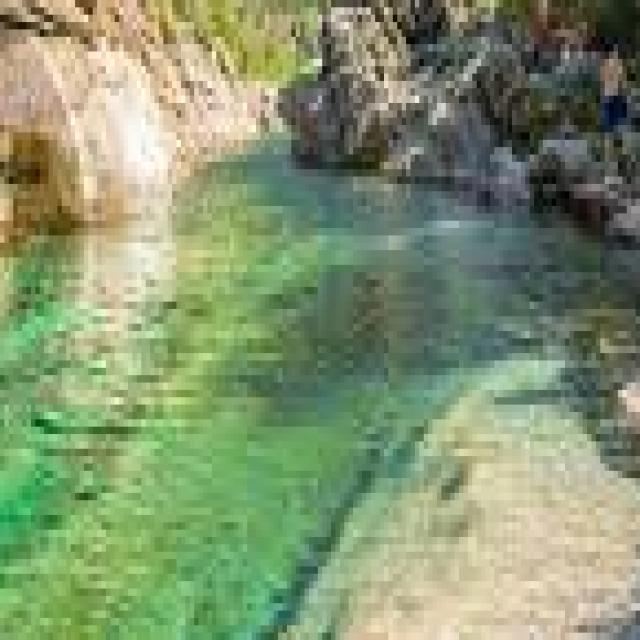-: (0, 235, 296, 640), (0, 397, 190, 640)
